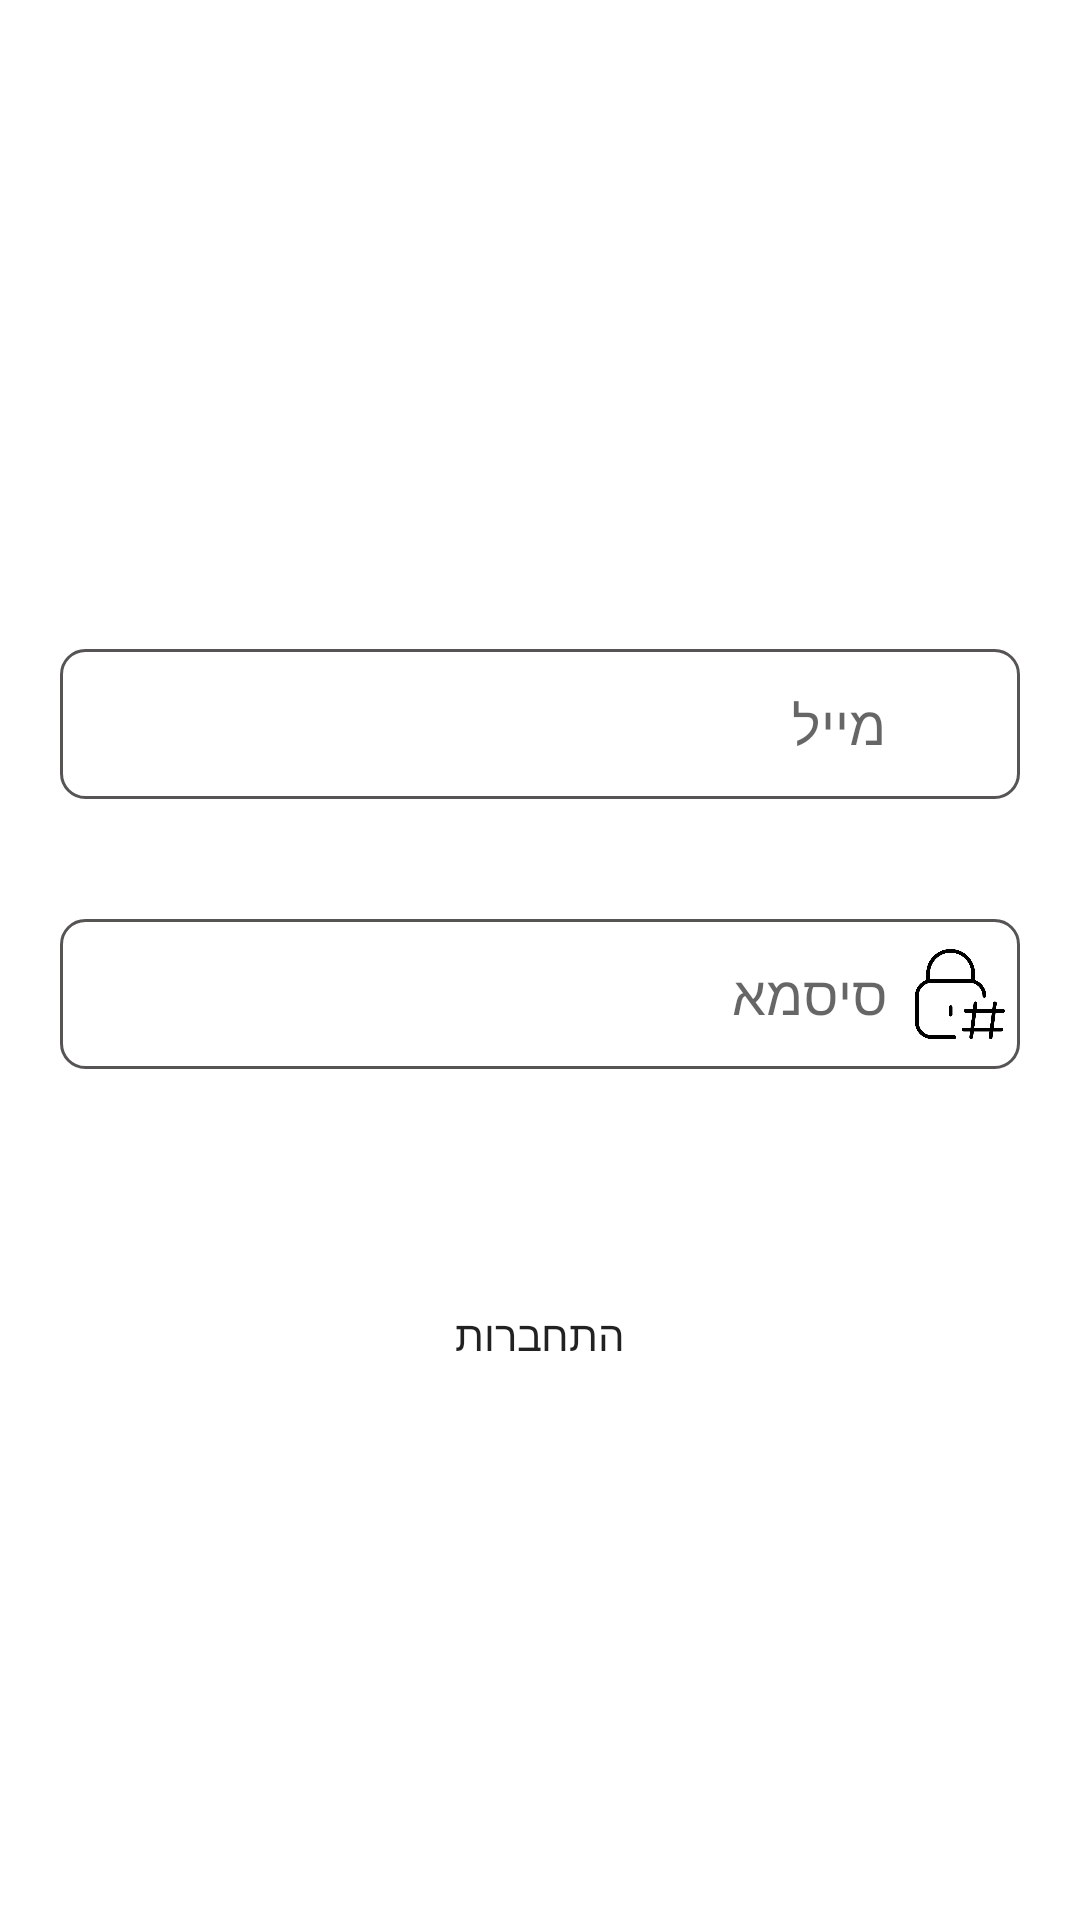

Screen size 1080 x 1920. Icon name, then its box in pixels as bbox(x1, y1, x2, y2):
lock: bbox(915, 949, 1005, 1039)
